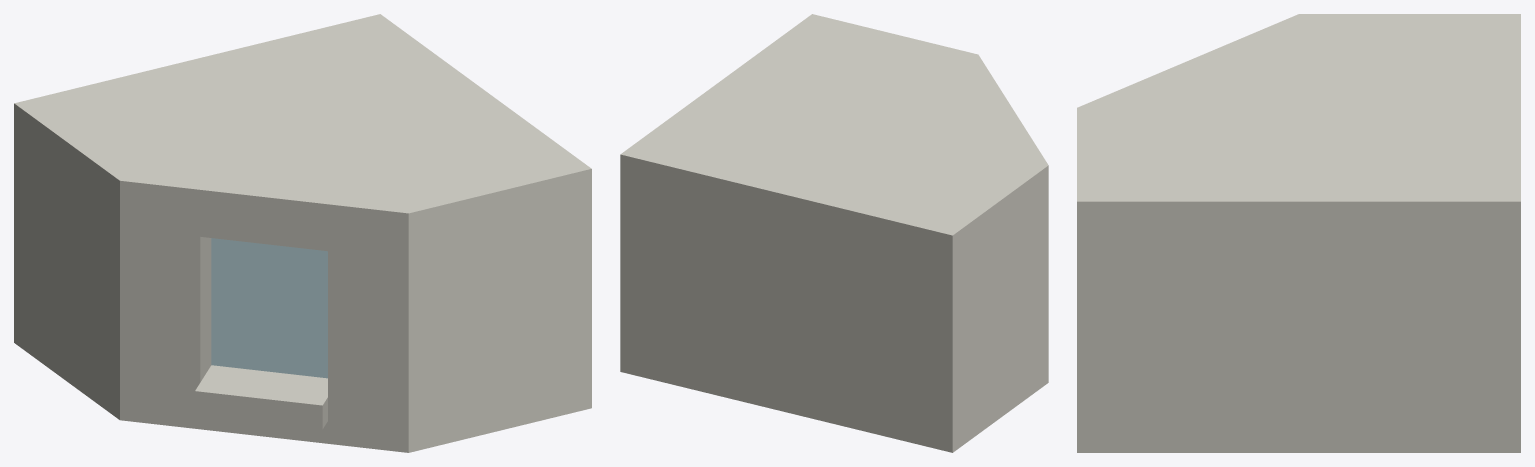
The model's file is building_038.glb.
The picture shows the model from 3 angles, left to right: view 1: azimuth 30°, elevation 25°; view 2: azimuth 150°, elevation 25°; view 3: azimuth 270°, elevation 25°; orthographic projection. The views are drawn at different scales.
Visible parts, largest first — view 1: building_038; view 2: building_038; view 3: building_038.
Part boxes in pixels (x1,y1,x2,y2): building_038: (14,14,591,452); building_038: (620,14,1048,452); building_038: (1077,14,1520,452).
Size of the model in its own units: 1 by 0.625 by 1.
